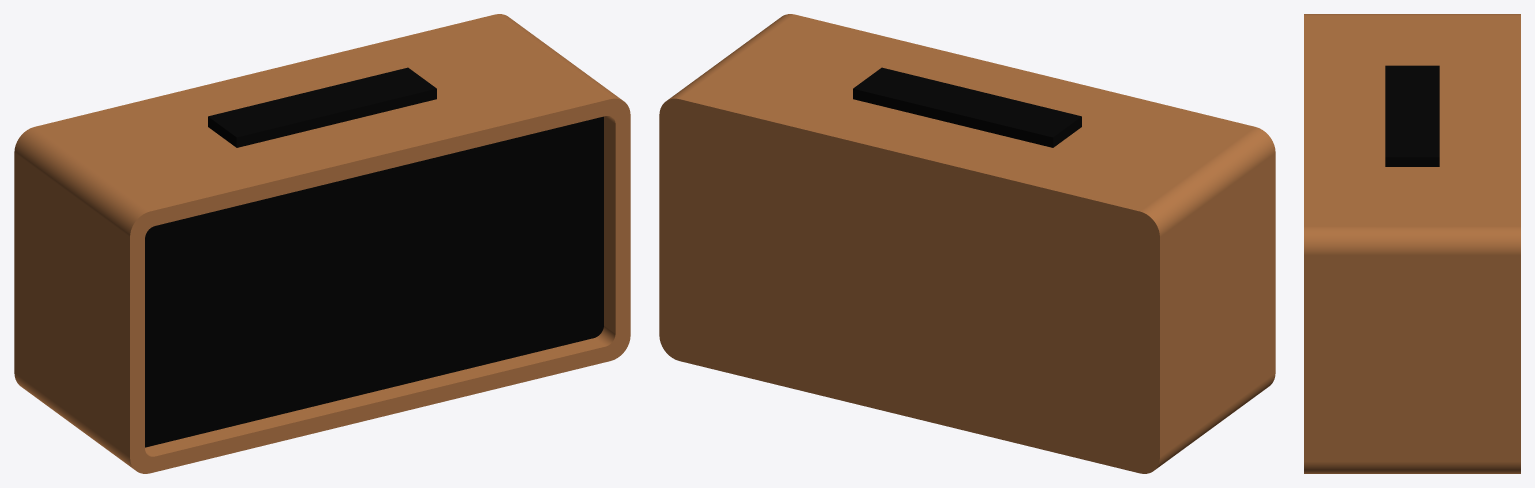
The model's file is DigitalClock.dae.
3 renders of one model, left to right at view 1: azimuth 30°, elevation 25°; view 2: azimuth 150°, elevation 25°; view 3: azimuth 270°, elevation 25°, orthographic. The views are drawn at different scales.
Visible parts, largest first — view 1: ID2; view 2: ID2; view 3: ID2.
Boxes of the visible parts, x1,y1,x2,y2 form: ID2: (14, 14, 630, 473); ID2: (659, 14, 1275, 473); ID2: (1304, 14, 1520, 473).
Size of the model in its own units: 0.127 by 0.0508 by 0.066.
